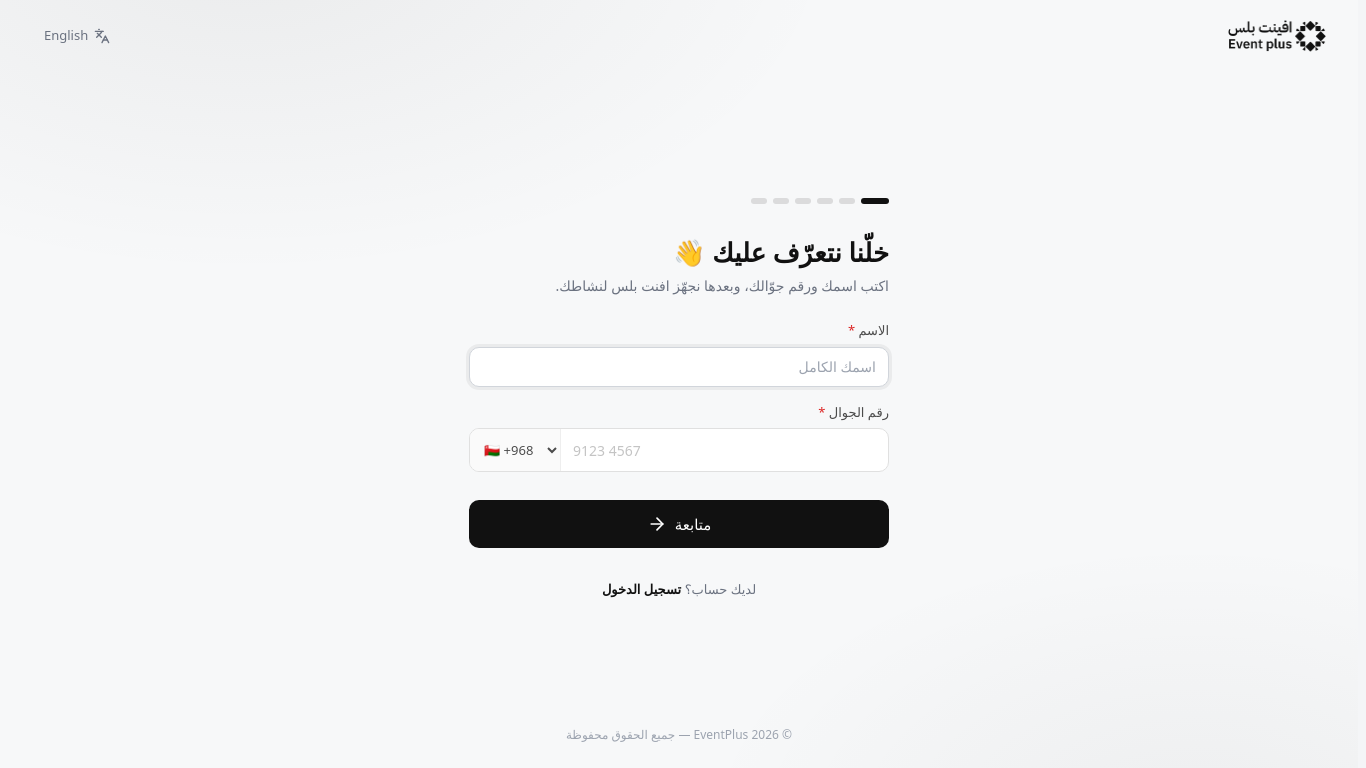
it: معالج التسجيل › يُتيح تخطّي الخطوات الاختياريّة وحدها
Type "سالم" into the field labelled "الاسم *" at [679, 367], box x1=469 y1=347 x2=889 y2=387
Type "91234567" into the field labelled "رقم الجوال *" at [724, 450], box x1=561 y1=429 x2=888 y2=471
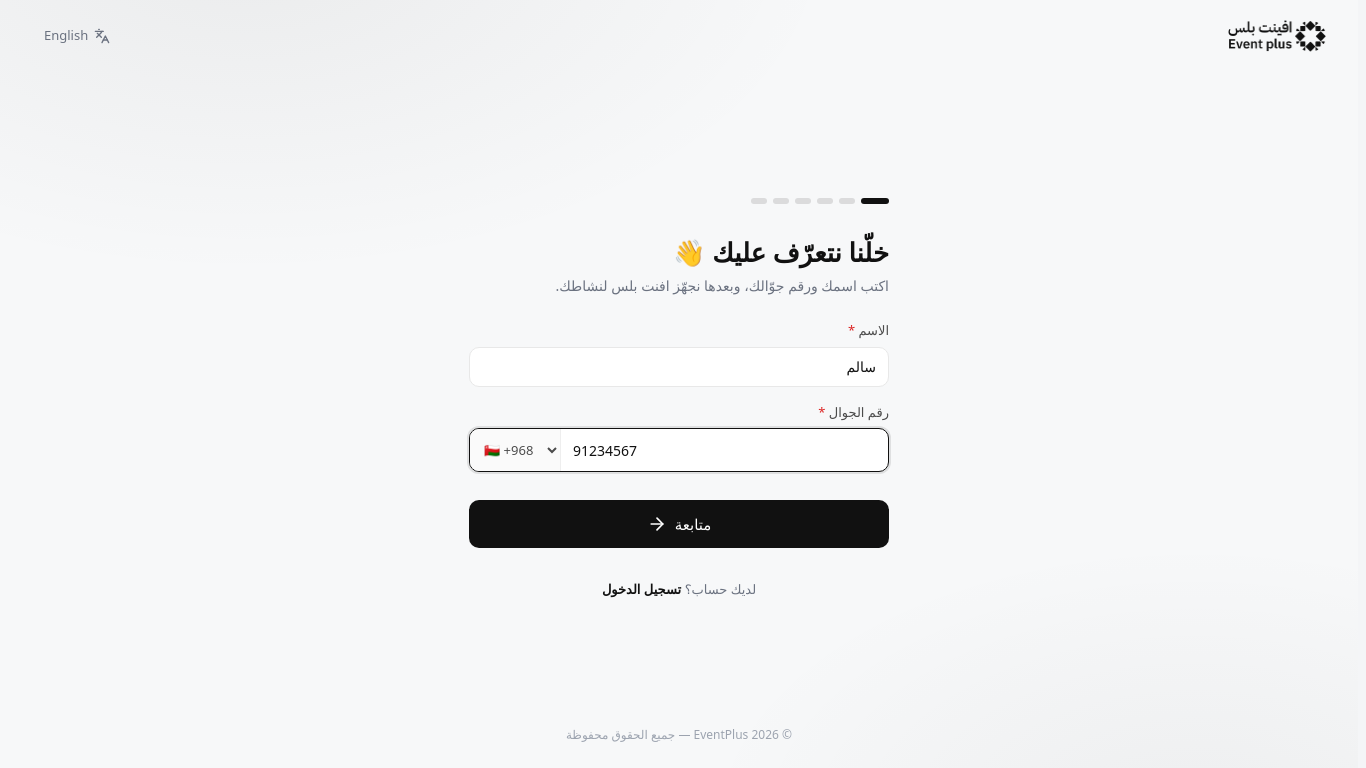
Click the button "متابعة" at [679, 524], box x1=469 y1=500 x2=889 y2=548
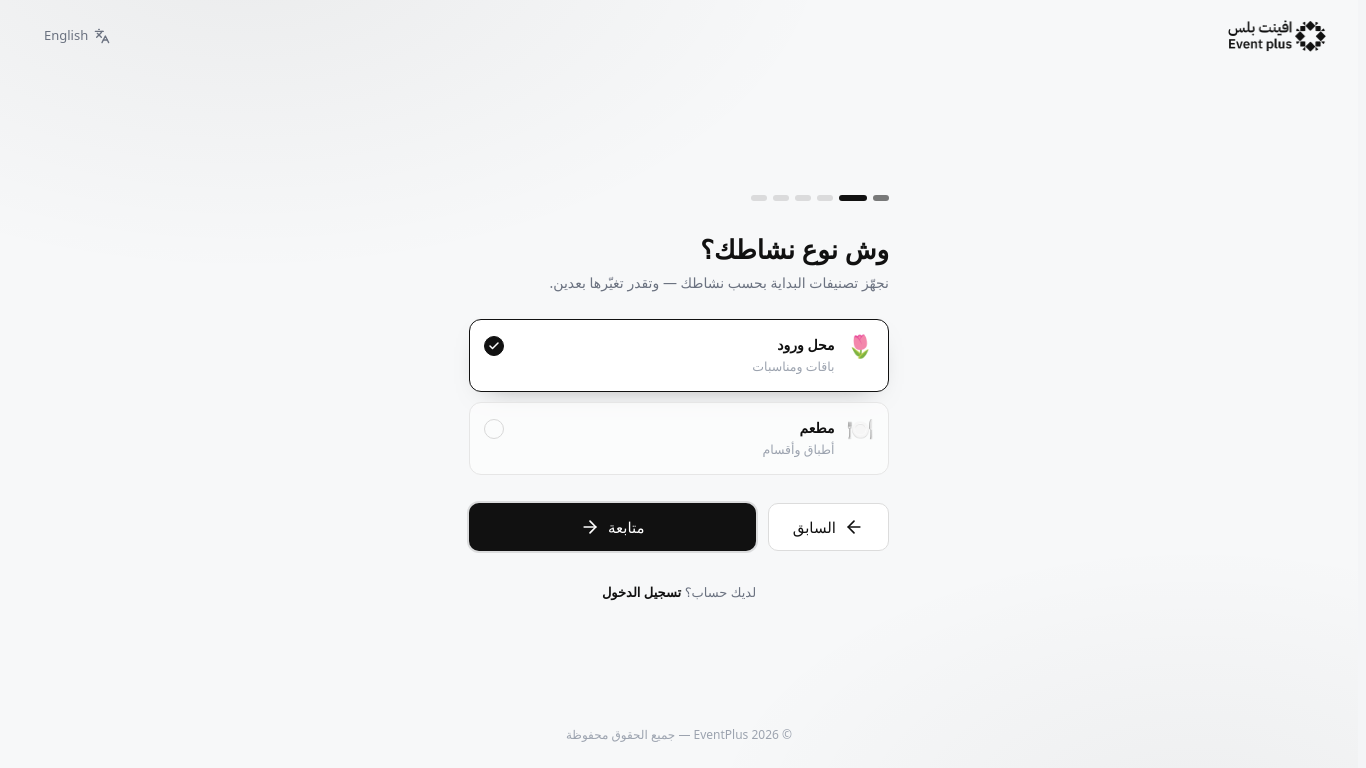
Expected: the button "تخطّي" is not shown
Click the button "متابعة" at [612, 527], box x1=469 y1=503 x2=756 y2=551
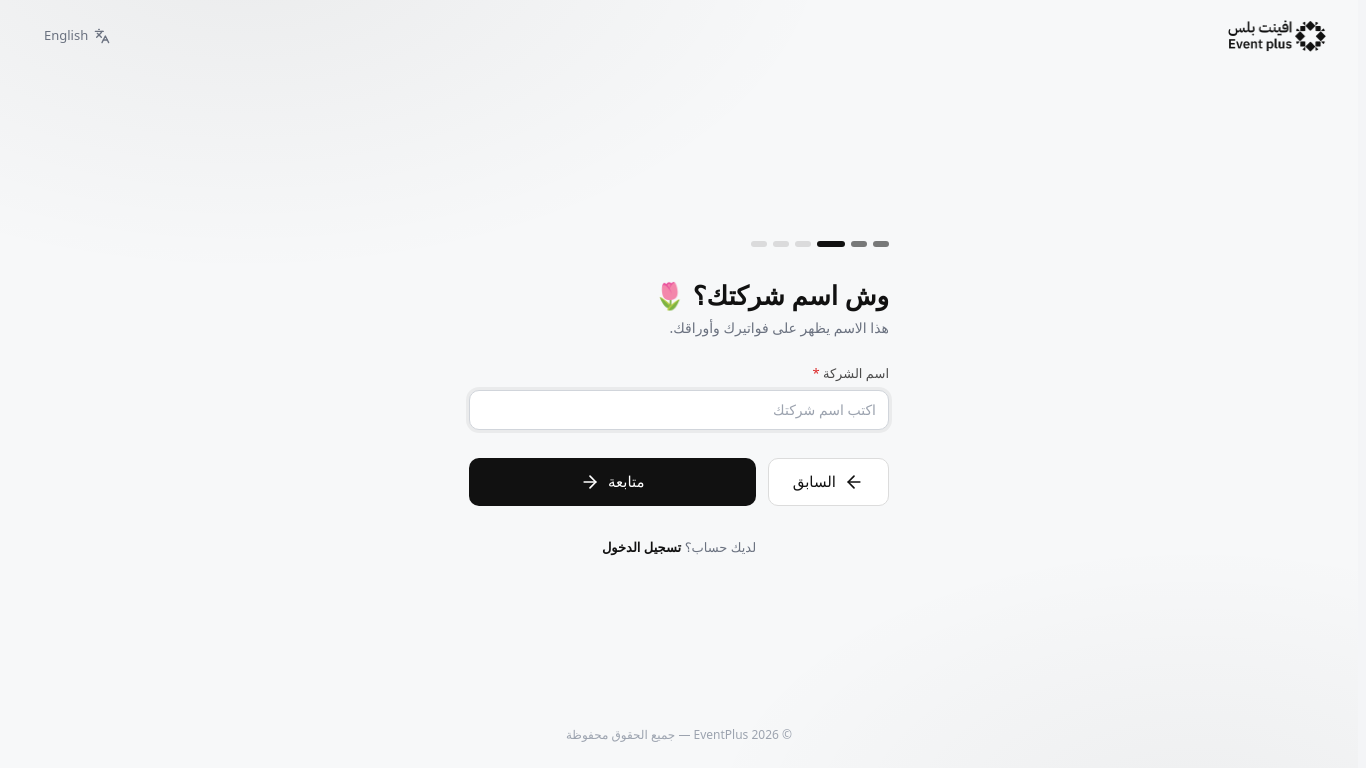
Type "زهور" into the field labelled "اسم الشركة *" at [679, 410], box x1=469 y1=390 x2=889 y2=430
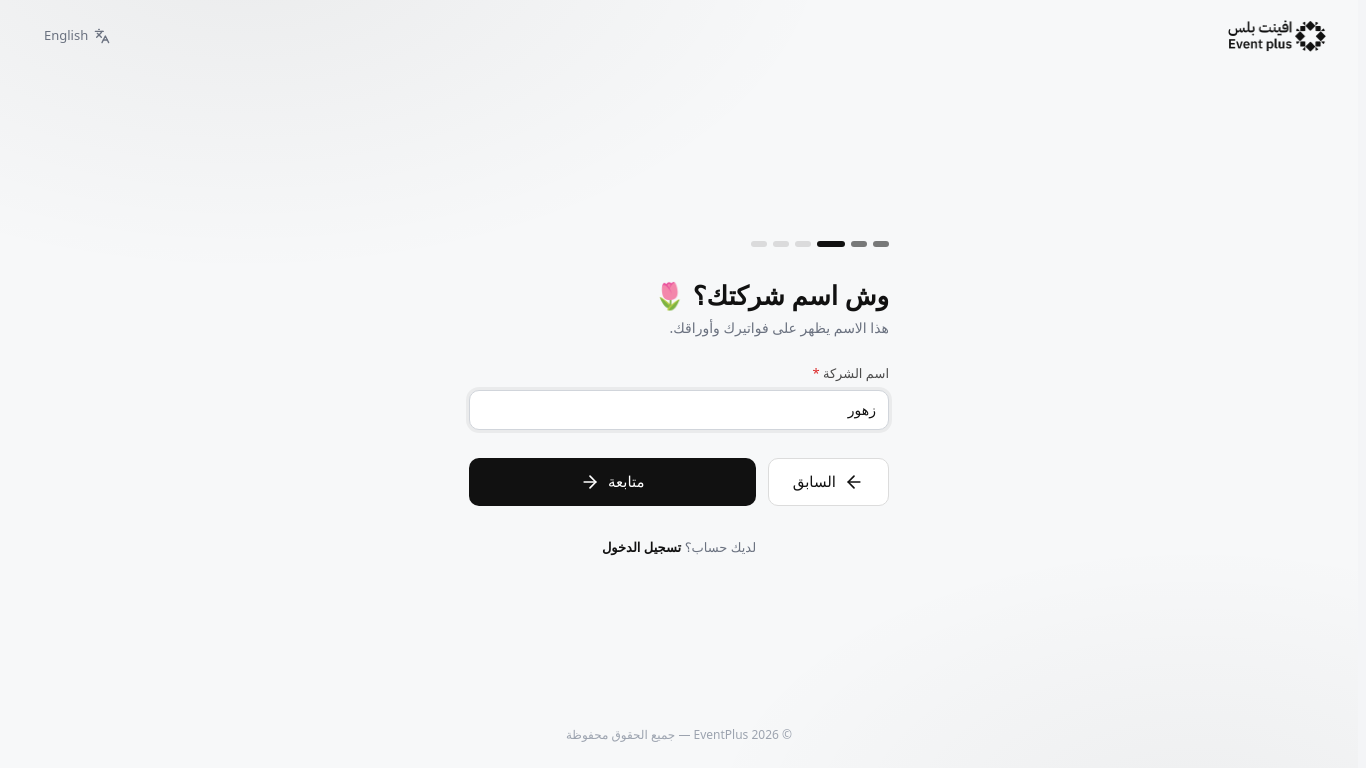
Click the button "متابعة" at [612, 482], box x1=469 y1=458 x2=756 y2=506
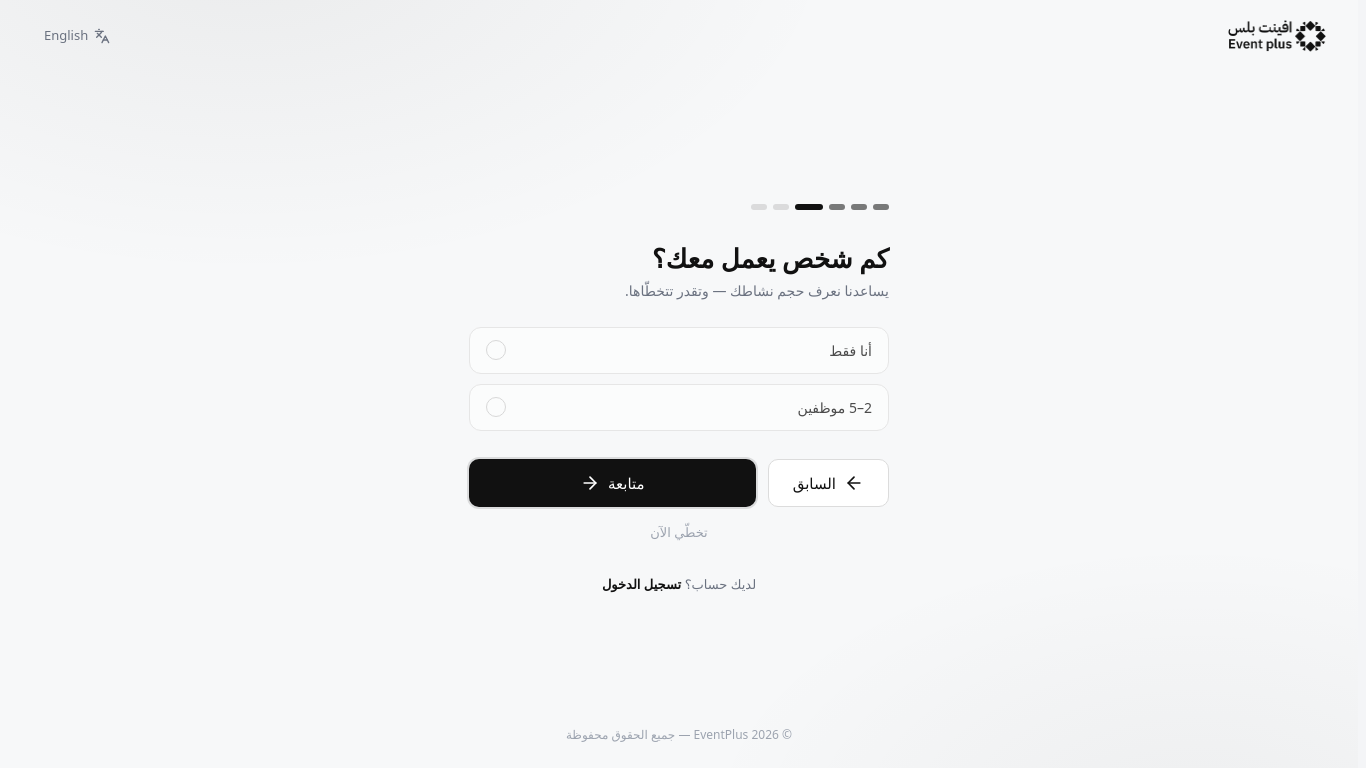
Now the heading "كم شخص يعمل معك؟" is shown, box x1=652 y1=240 x2=889 y2=276
Click the button "تخطّي الآن" at [679, 533], box x1=469 y1=523 x2=889 y2=542
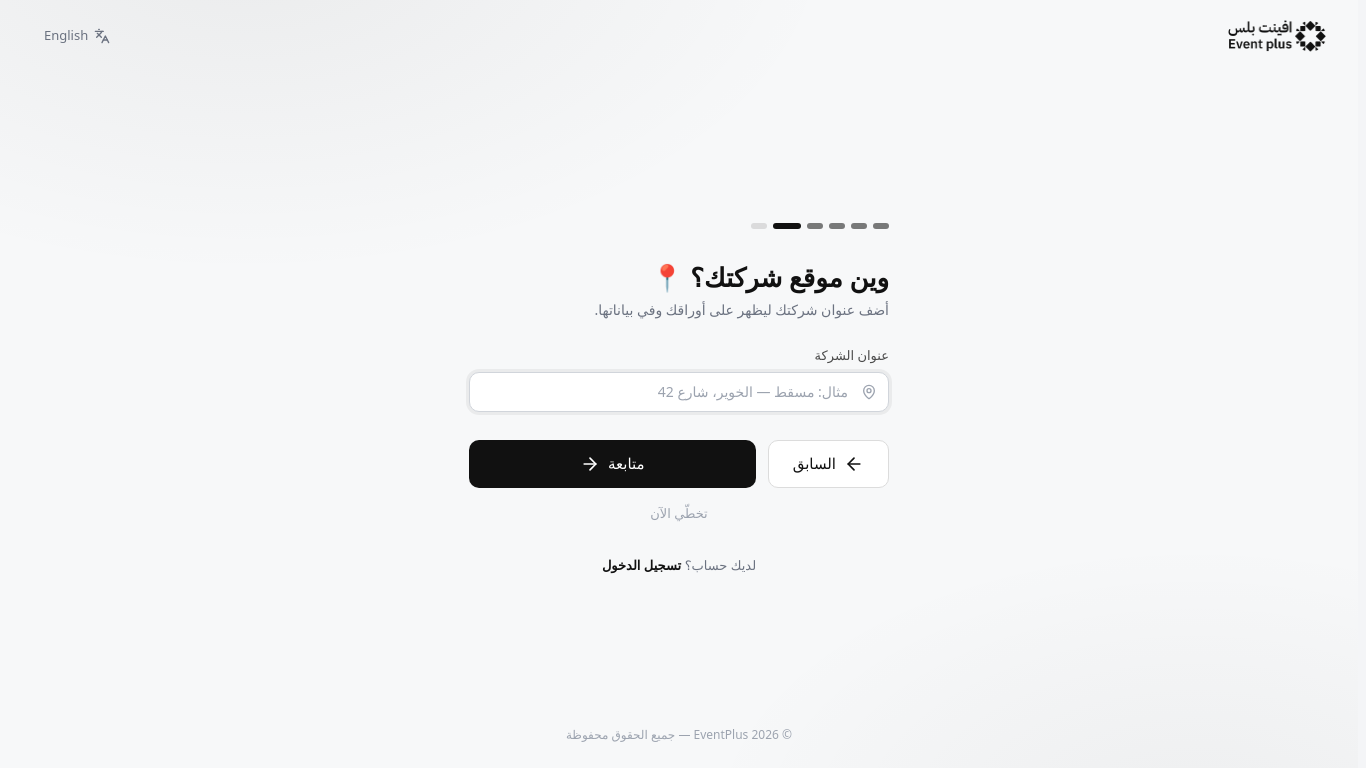
Now the heading "وين موقع شركتك؟ 📍" is shown, box x1=651 y1=259 x2=889 y2=295
